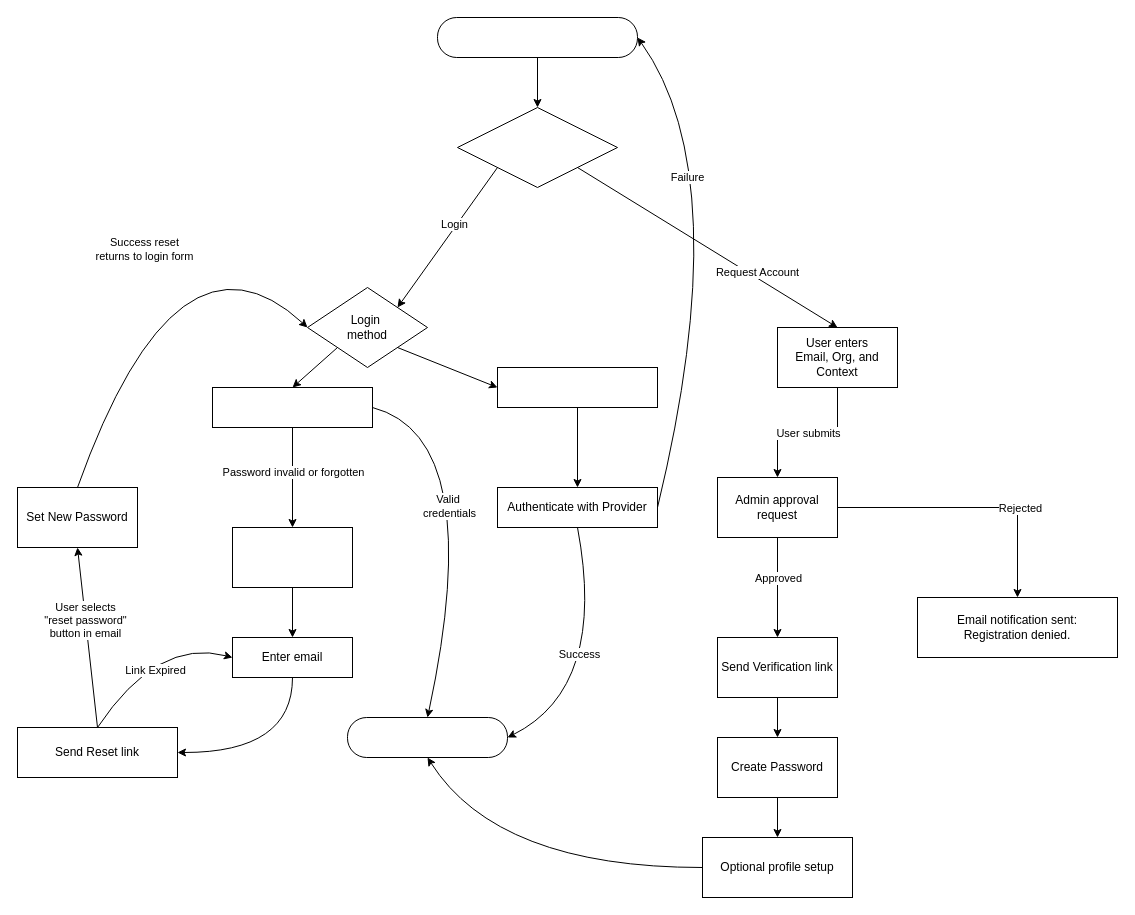
The diagram is 1135 pixels wide and 915 high, and some of its shapes have lost their labels. Each missing label, with the box of its shape:
Dashboard: (346, 716, 508, 758)
Password Reset: (232, 526, 352, 588)
Select OAuth Provider: (496, 366, 658, 408)
User action: (456, 106, 618, 188)
User arrives on site: (436, 16, 638, 58)
User enters credentials (username/password): (212, 386, 372, 428)
